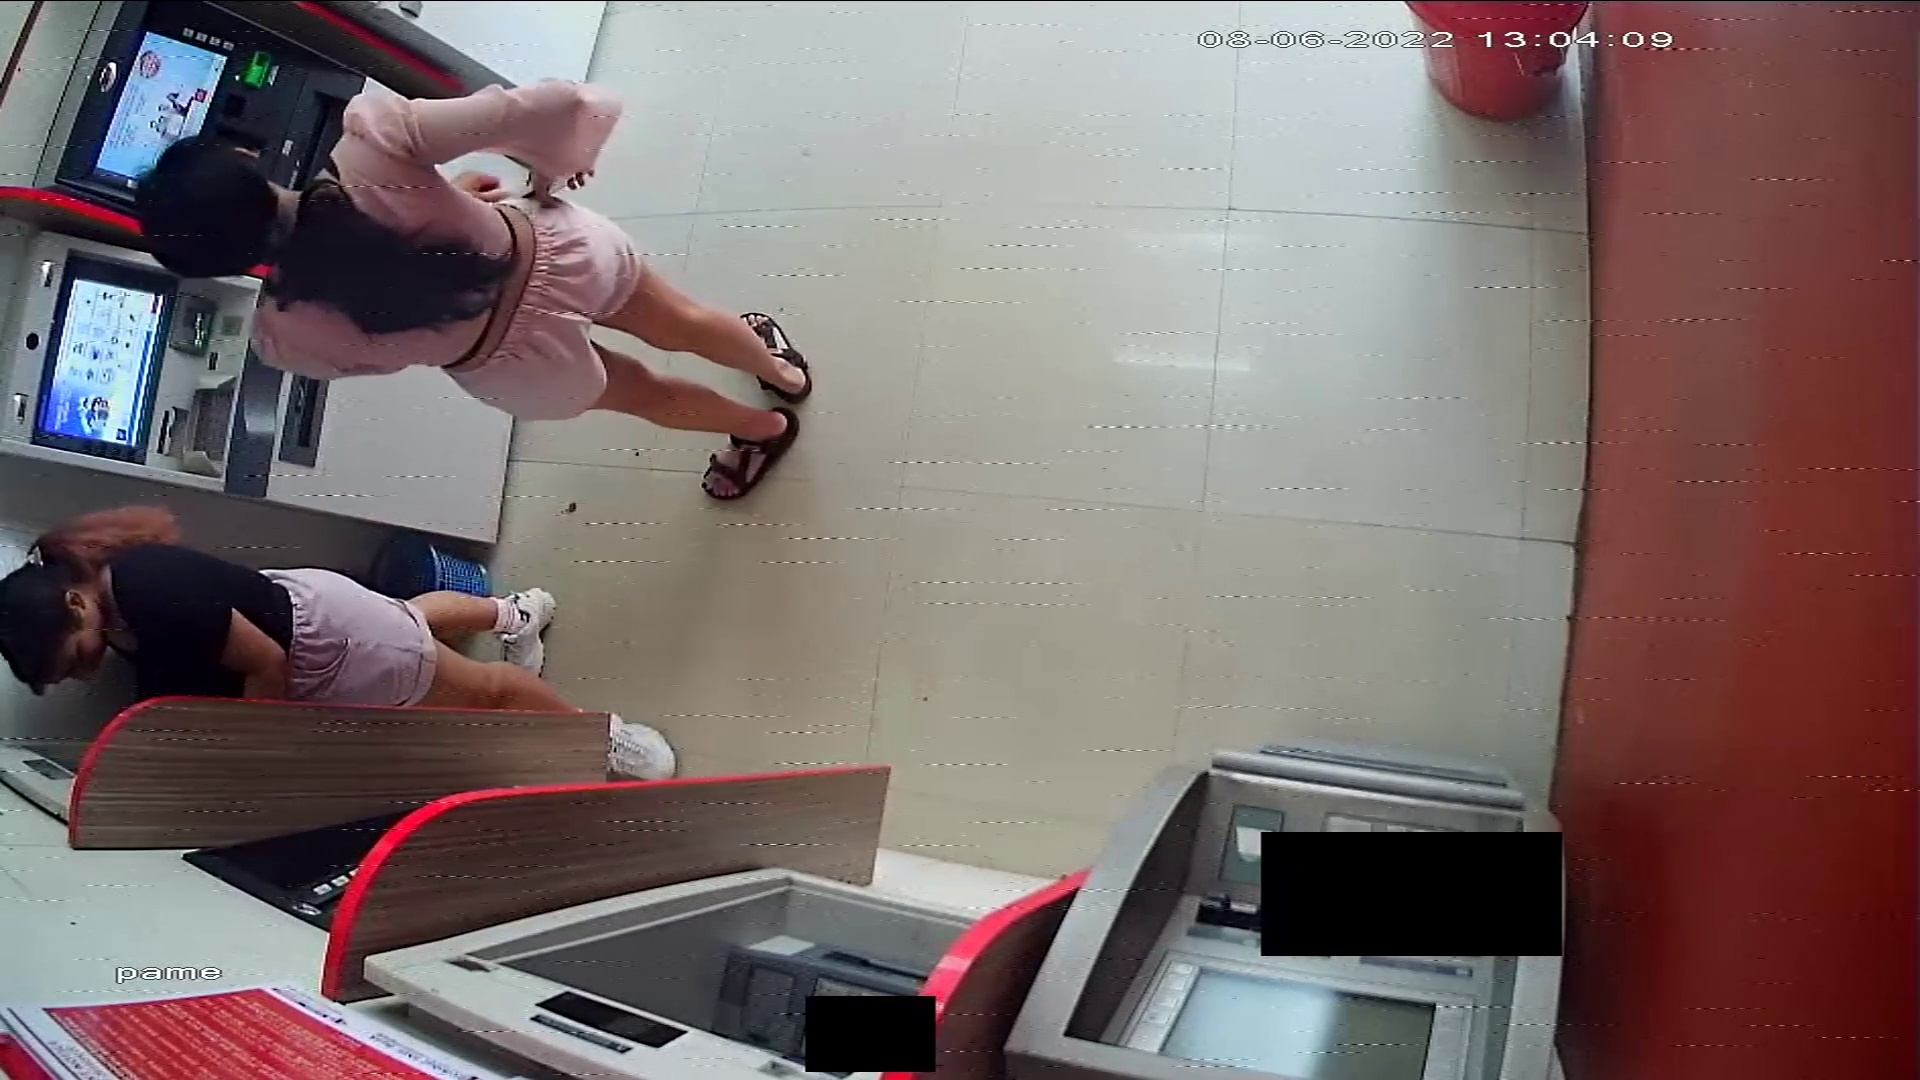person: (129, 79, 813, 499), (1, 506, 677, 788)
